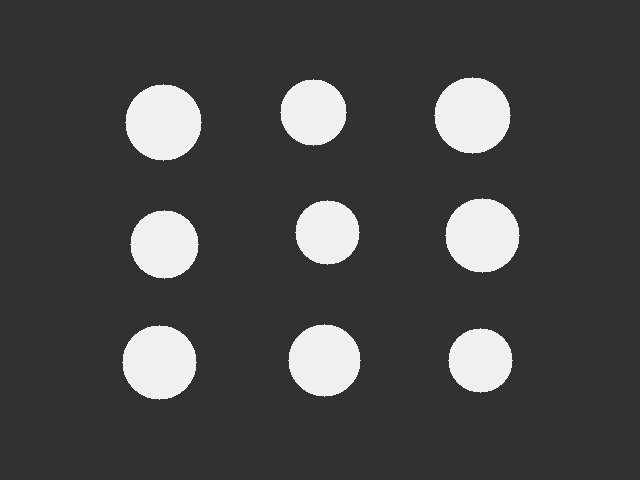hole: (125, 84, 201, 160), (434, 77, 510, 153), (445, 198, 519, 272), (122, 325, 196, 399), (288, 324, 360, 396), (130, 210, 198, 278), (280, 79, 346, 145), (295, 200, 359, 264), (448, 328, 512, 392)
